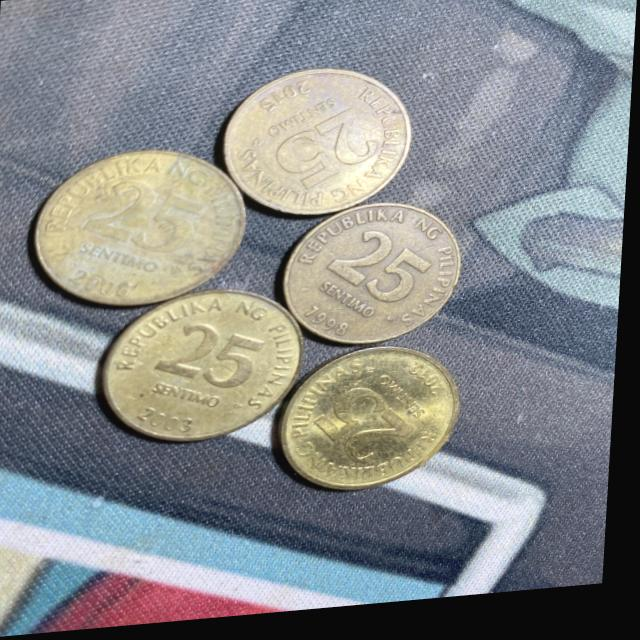25Cent_Old_Front: (81, 176, 204, 262), (330, 231, 434, 314), (158, 321, 268, 399), (278, 113, 381, 193), (322, 391, 414, 475)
